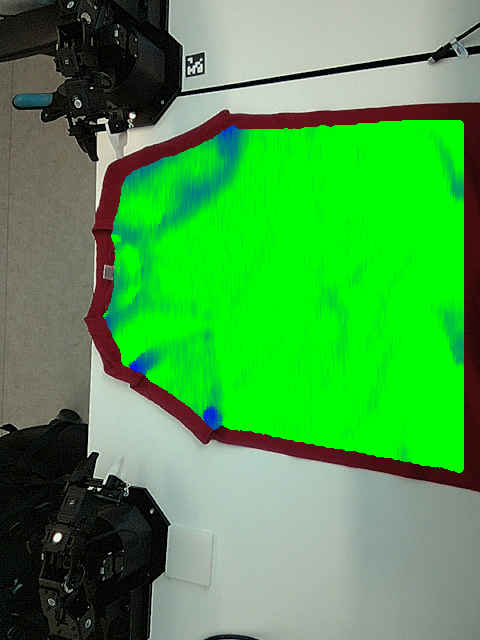V: (179, 315, 238, 375)
